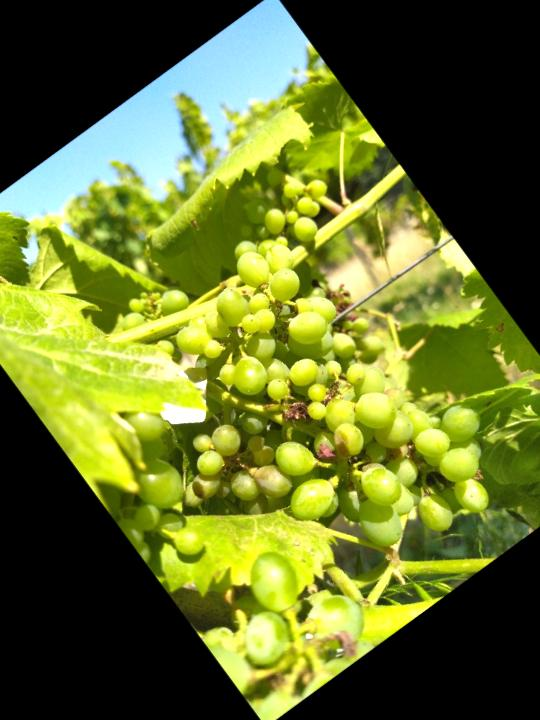grape: (86, 195, 532, 656), (216, 140, 351, 272)
